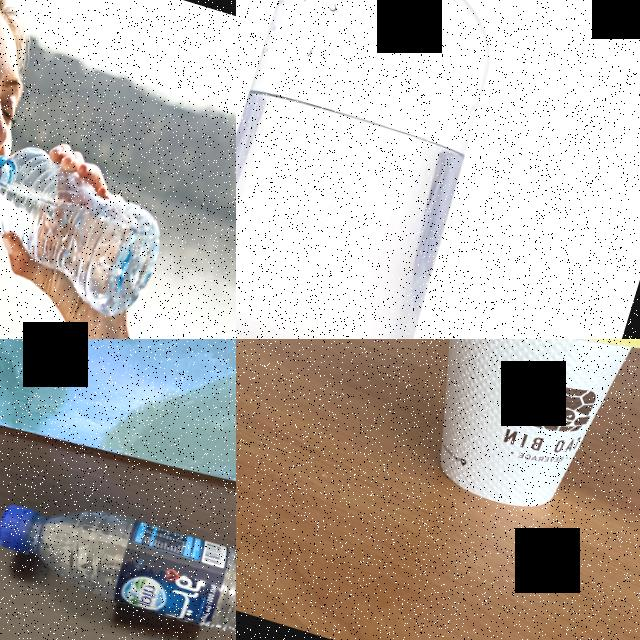bottle: (236, 0, 541, 339), (0, 474, 236, 640), (0, 126, 176, 321)
cup: (379, 339, 640, 532)
